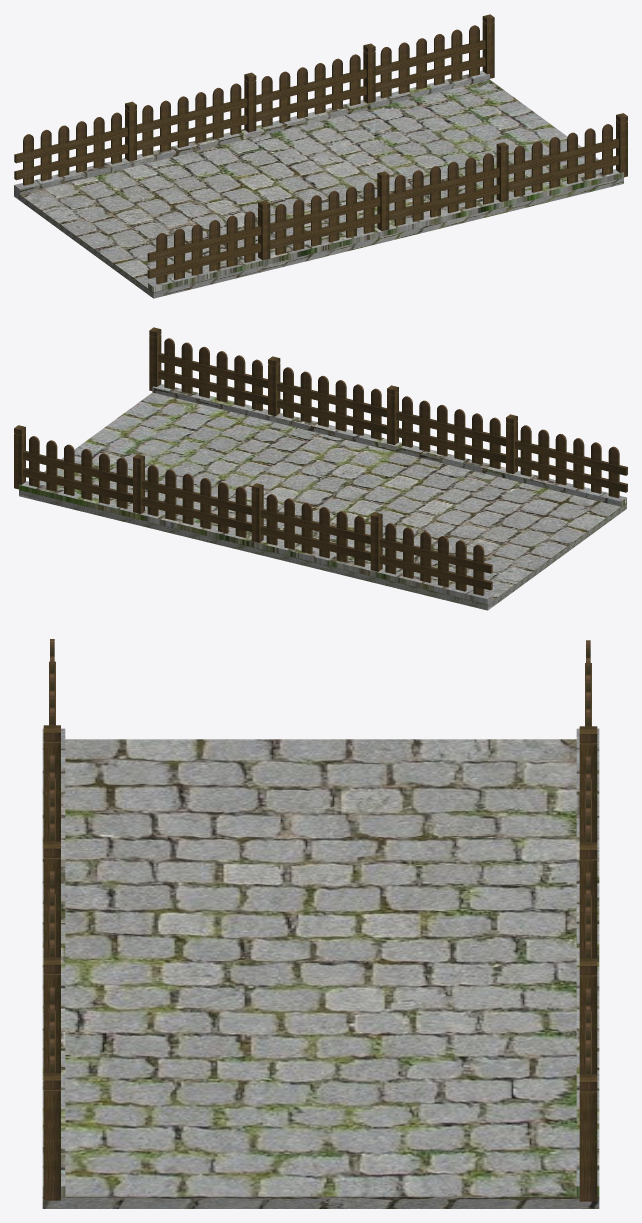
Rendered from 5S_06StoneRoad.FBX.
3 renders of one model, top to bottom at view 1: azimuth 30°, elevation 25°; view 2: azimuth 150°, elevation 25°; view 3: azimuth 270°, elevation 25°, orthographic. The views are drawn at different scales.
Parts seen in each view (by area): view 1: 5S_6ROAD_02, 5S_13rail1_011, 5S_13rail1_007, 5S_13rail1_05, 5S_13rail1_010, 5S_13rail1_006, 5S_13rail1_009, 5S_13rail1_008, 5S_13rail1_012; view 2: 5S_6ROAD_02, 5S_13rail1_008, 5S_13rail1_011, 5S_13rail1_007, 5S_13rail1_012, 5S_13rail1_006, 5S_13rail1_05, 5S_13rail1_009, 5S_13rail1_010; view 3: 5S_6ROAD_02, 5S_13rail1_05, 5S_13rail1_012, 5S_13rail1_006, 5S_13rail1_007, 5S_13rail1_008, 5S_13rail1_011, 5S_13rail1_009, 5S_13rail1_010.
Boxes of the visible parts, <box> form: 5S_6ROAD_02: <box>14,71,623,298</box>; 5S_13rail1_011: <box>147,200,270,284</box>; 5S_13rail1_007: <box>137,72,256,156</box>; 5S_13rail1_05: <box>375,14,494,98</box>; 5S_13rail1_010: <box>270,171,389,255</box>; 5S_13rail1_006: <box>256,43,375,127</box>; 5S_13rail1_009: <box>389,142,508,226</box>; 5S_13rail1_008: <box>14,101,136,185</box>; 5S_13rail1_012: <box>508,113,627,196</box>; 5S_6ROAD_02: <box>19,384,626,610</box>; 5S_13rail1_008: <box>370,512,492,595</box>; 5S_13rail1_011: <box>506,414,627,498</box>; 5S_13rail1_007: <box>251,483,370,566</box>; 5S_13rail1_012: <box>149,327,267,411</box>; 5S_13rail1_006: <box>133,454,251,537</box>; 5S_13rail1_05: <box>14,425,132,508</box>; 5S_13rail1_009: <box>268,356,386,439</box>; 5S_13rail1_010: <box>387,385,505,468</box>; 5S_6ROAD_02: <box>42,728,599,1208</box>; 5S_13rail1_05: <box>579,988,597,1201</box>; 5S_13rail1_012: <box>43,987,60,1200</box>; 5S_13rail1_006: <box>579,872,597,1074</box>; 5S_13rail1_007: <box>579,756,597,958</box>; 5S_13rail1_008: <box>579,640,597,842</box>; 5S_13rail1_011: <box>43,639,60,841</box>; 5S_13rail1_009: <box>43,871,60,1073</box>; 5S_13rail1_010: <box>43,755,60,957</box>.
Bounding box in the file's own units: 19.9 × 2.64 × 10.05.
Materials: 2 (2 with a texture image).
